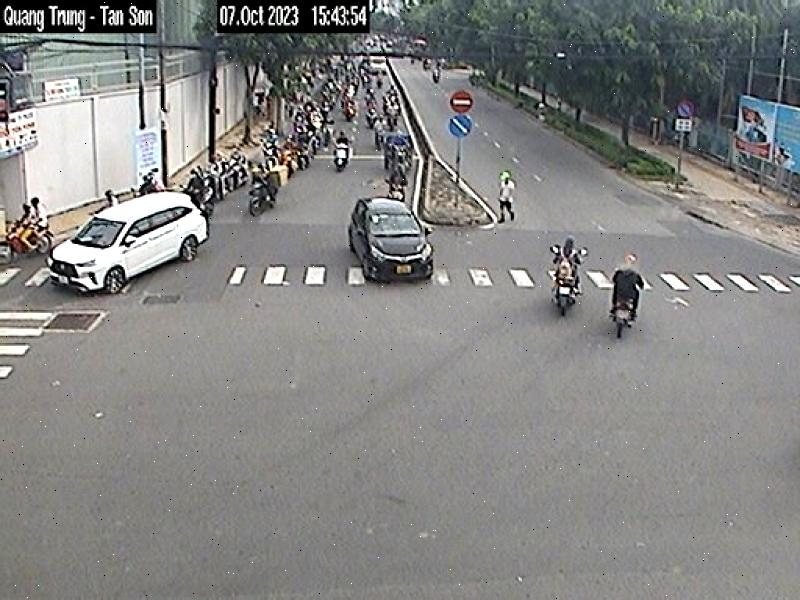car: (44, 192, 212, 295), (347, 195, 442, 283)
